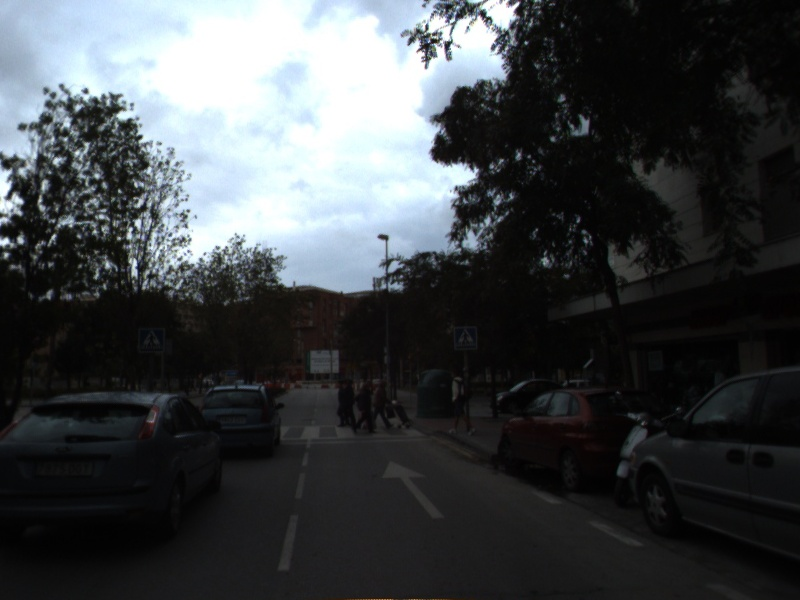STRAIGHT: (380, 459, 446, 520)
